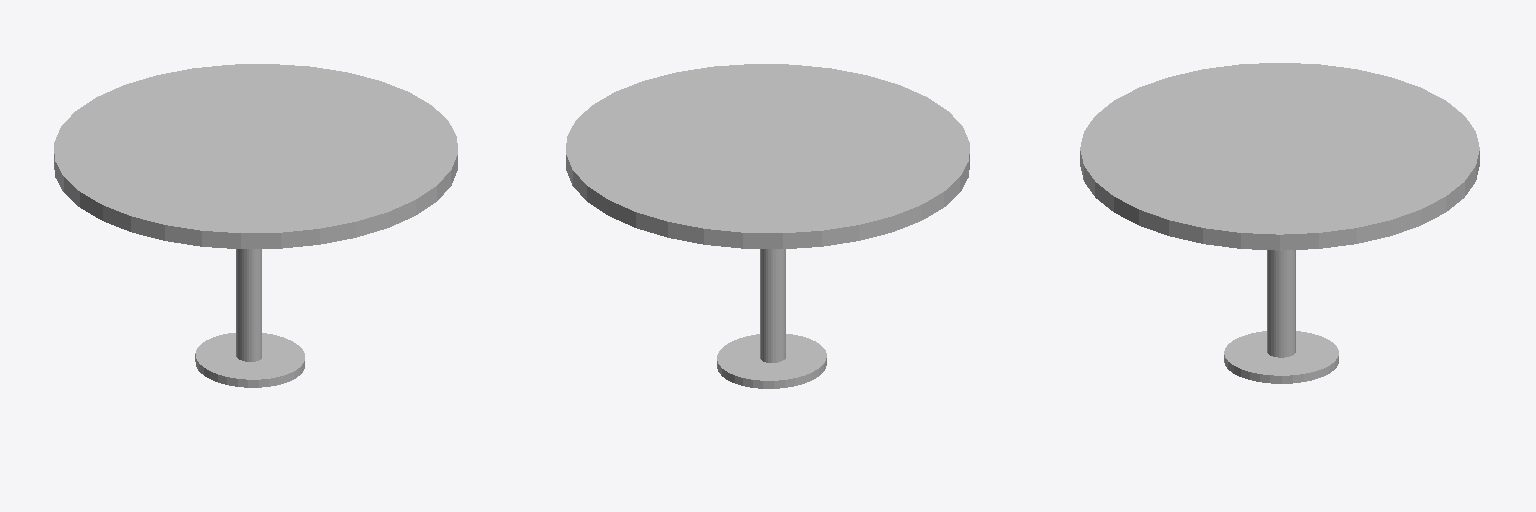
The model's file is table.obj.
The picture shows the model from 3 angles: view 1: azimuth 30°, elevation 25°; view 2: azimuth 150°, elevation 25°; view 3: azimuth 270°, elevation 25°; orthographic projection.
Parts seen in each view (by area): view 1: Cylinder, Cylinder.003, Cylinder.001; view 2: Cylinder, Cylinder.003, Cylinder.001; view 3: Cylinder, Cylinder.003, Cylinder.001.
Part boxes in pixels (x1,y1,x2,y2): Cylinder: (54, 64, 457, 248); Cylinder.003: (195, 333, 304, 387); Cylinder.001: (236, 249, 261, 361); Cylinder: (566, 64, 969, 248); Cylinder.003: (717, 334, 826, 388); Cylinder.001: (760, 249, 785, 362); Cylinder: (1080, 63, 1479, 250); Cylinder.003: (1224, 331, 1338, 383); Cylinder.001: (1267, 250, 1295, 357).
Size of the model in its own units: 4.3 by 2.5 by 4.22.